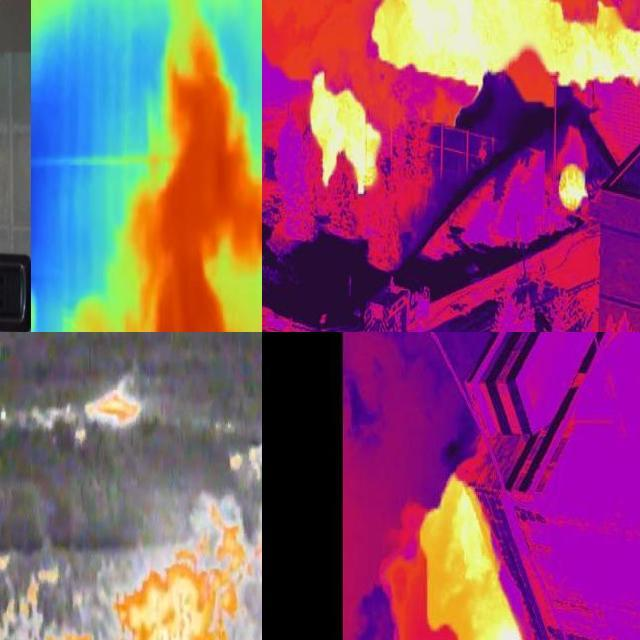fire: (129, 76, 262, 335), (370, 1, 640, 93), (115, 500, 263, 640), (422, 473, 527, 640), (1, 551, 116, 640), (311, 71, 386, 198), (84, 380, 144, 430), (556, 163, 592, 214)
